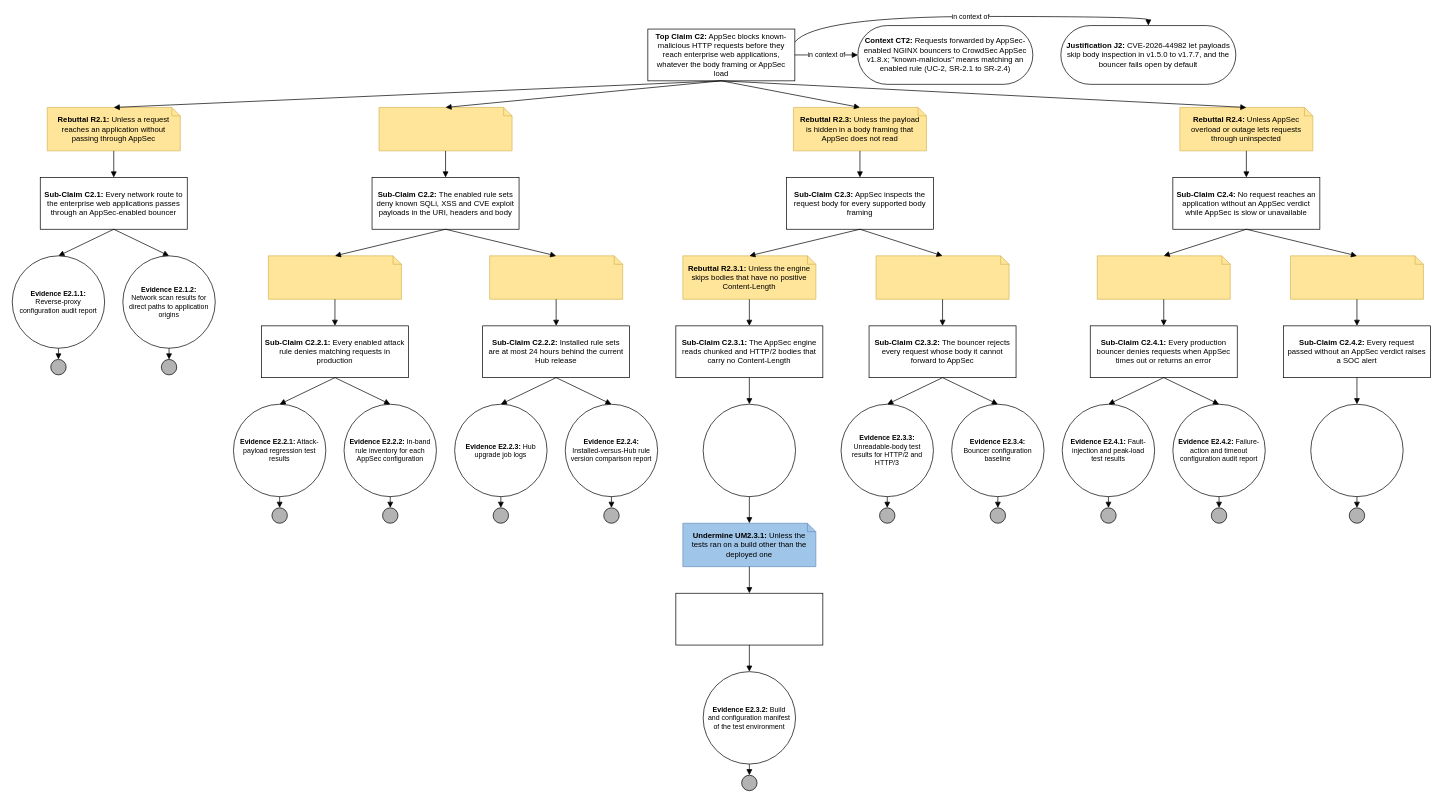
Some shapes in this 1443 by 803 pixel diagram are drawn without their labels. The centre of each missing label's shape, as x and y in pixels:
"Evidence E2.3.1: Negative test results for each body framing" goes at point (749, 450).
"Evidence E2.4.3: Fail-open alert test records from the SIEM" goes at point (1356, 450).
"Rebuttal R2.2.1: Unless rules log attacks without blocking them" goes at point (334, 277).
"Rebuttal R2.2.2: Unless the installed rules are out of date" goes at point (556, 277).
"Rebuttal R2.2: Unless the enabled rules miss a known attack payload" goes at point (445, 129).
"Rebuttal R2.3.2: Unless the bouncer forwards a request without its body" goes at point (942, 277).
"Rebuttal R2.4.1: Unless bouncers pass requests through on timeout or error" goes at point (1163, 277).
"Rebuttal R2.4.2: Unless an uninspected request passes unnoticed" goes at point (1356, 277).
"Sub-Claim C2.3.1.1: The tested build and configuration match production" goes at point (749, 619).
